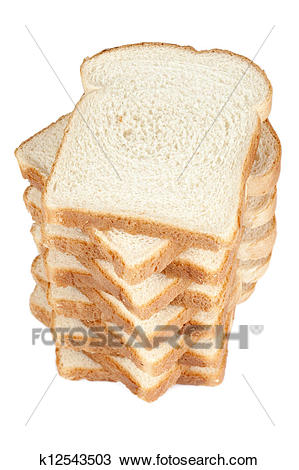slice of bread: (10, 137, 290, 401), (50, 42, 262, 244)
